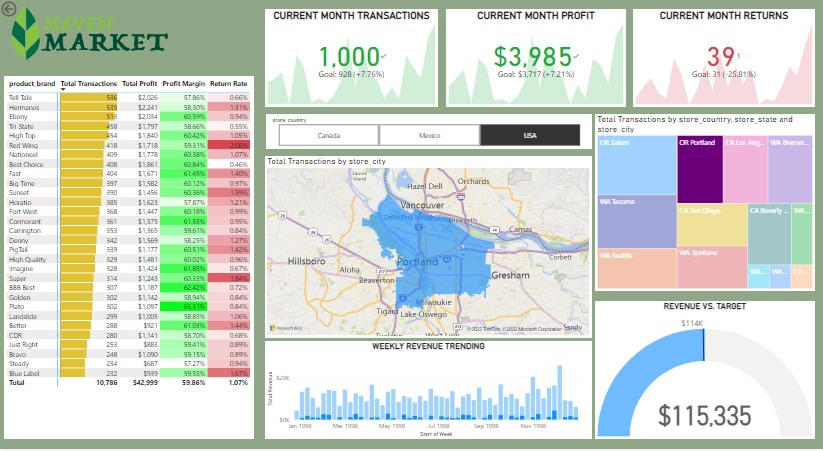

Layout of this report page (visuals, bound fields, positions):
{"tool":"powerbi","page":{"name":"Page 1","canvas":[1650,900],"ordinal":0},"visuals":[{"type":"image","box":[10.2,0,339.7,135],"z":0},{"type":"pivotTable","fields":{"Rows":["Products.product_brand"],"Values":["Key Measures.Total Transactions","Key Measures.Total Profit","Key Measures.Profit Margin","Key Measures.Return Rate"]},"box":[10,154,500,726],"z":1000},{"type":"actionButton","box":[0,0,100,40],"z":2000},{"type":"kpi","title":"CURRENT MONTH TRANSACTIONS","fields":{"Indicator":["Key Measures.Total Transactions"],"TrendLine":["Calendar.Start of Month"],"Goal":["Key Measures.Last Month Transactions"]},"box":[532,20,346,196],"z":3000},{"type":"kpi","title":"CURRENT MONTH PROFIT","fields":{"TrendLine":["Calendar.Start of Month"],"Indicator":["Key Measures.Total Profit"],"Goal":["Key Measures.Last Month Profit"]},"box":[894,20,360,196],"z":4000},{"type":"kpi","title":"CURRENT MONTH RETURNS","fields":{"TrendLine":["Calendar.Start of Month"],"Goal":["Key Measures.Last Month Returns"],"Indicator":["Key Measures.Total Returns"]},"box":[1268,20,364,196],"z":5000},{"type":"filledMap","fields":{"Category":["Stores.store_city"]},"box":[532,314,654,364],"z":6000},{"type":"slicer","fields":{"Values":["Stores.store_country"]},"box":[534,230,652,70],"z":7000},{"type":"treemap","fields":{"Group":["Stores.store_country","Stores.store_state","Stores.store_city"],"Values":["Key Measures.Total Transactions"]},"box":[1192,230,440,354],"z":8000},{"type":"columnChart","title":"WEEKLY REVENUE TRENDING","fields":{"Category":["Calendar.Start of Week"],"Y":["Key Measures.Total Revenue"]},"box":[532,684,654,196],"z":9000},{"type":"gauge","title":"REVENUE VS. TARGET","fields":{"Y":["Key Measures.Total Revenue"],"TargetValue":["Key Measures.Revenue Target"]},"box":[1192,604,440,276],"z":10000}]}

Visuals, with their boxes in screenshot pixels (x1, y1, x2, y2), scaled from the page's 1650x900 canvas onto the 823x451 screenshot:
image: <box>5,0,175,68</box>
pivotTable - Products.product_brand x Key Measures.Total Transactions: <box>5,77,254,441</box>
actionButton: <box>0,0,50,20</box>
"CURRENT MONTH TRANSACTIONS" kpi: <box>265,10,438,108</box>
"CURRENT MONTH PROFIT" kpi: <box>446,10,625,108</box>
"CURRENT MONTH RETURNS" kpi: <box>632,10,814,108</box>
filledMap - Stores.store_city: <box>265,157,592,340</box>
slicer - Stores.store_country: <box>266,115,592,150</box>
treemap - Stores.store_country x Stores.store_state: <box>595,115,814,293</box>
"WEEKLY REVENUE TRENDING" columnChart: <box>265,343,592,441</box>
"REVENUE VS. TARGET" gauge: <box>595,303,814,441</box>
